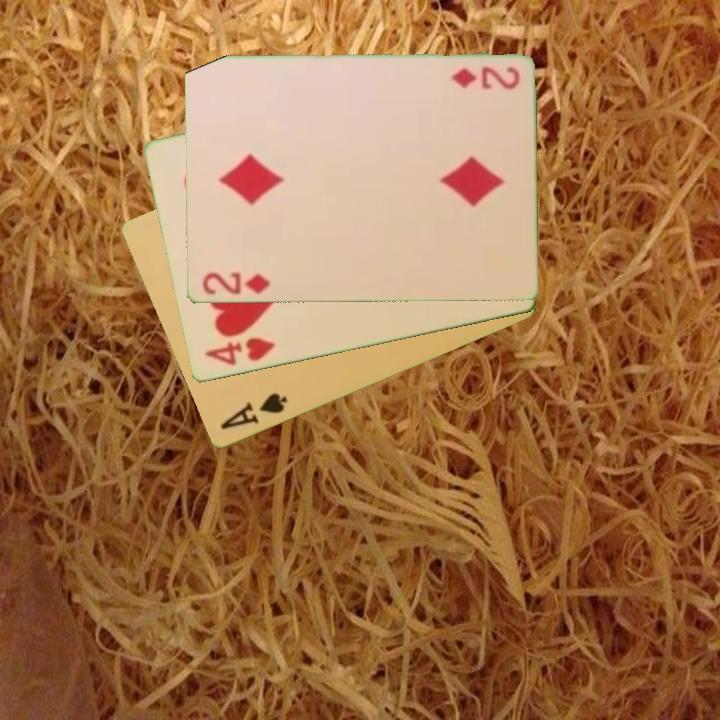2d: (198, 269, 273, 298), (448, 63, 522, 92)
4h: (201, 334, 278, 369)
As: (216, 390, 291, 434)
